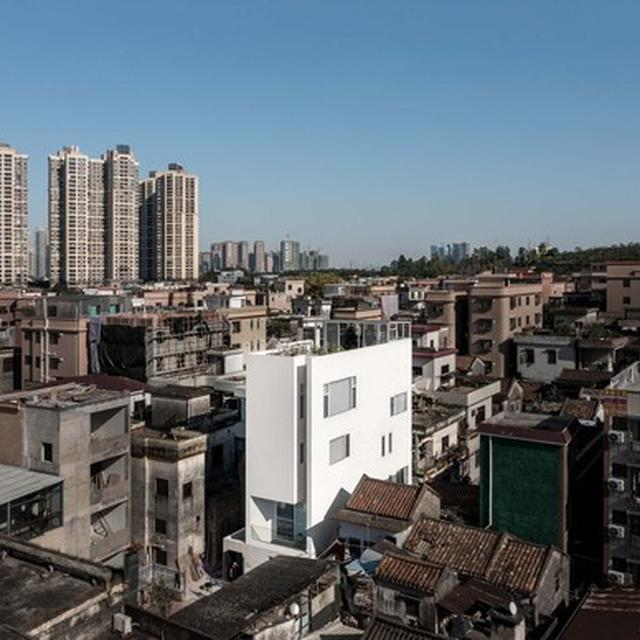building: (240, 319, 412, 542), (0, 143, 202, 284), (2, 371, 144, 566), (419, 277, 548, 381), (206, 236, 335, 276)
